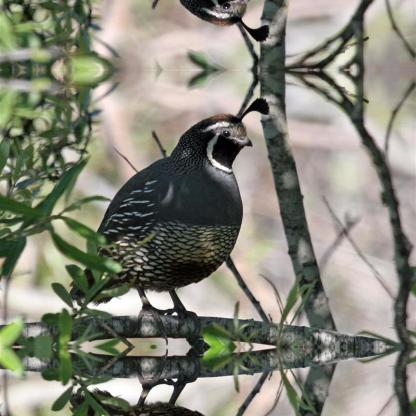Bird: (94, 103, 246, 327), (94, 365, 247, 415)
